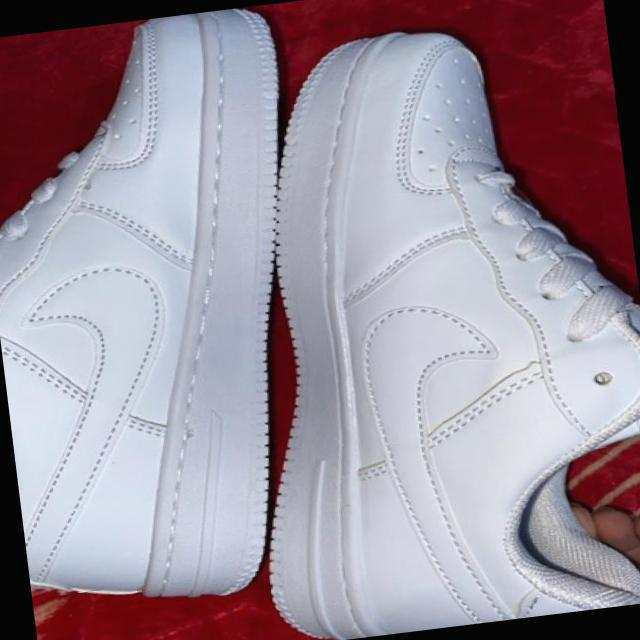nike_fake_airforce: (198, 4, 640, 640), (0, 4, 340, 617)
